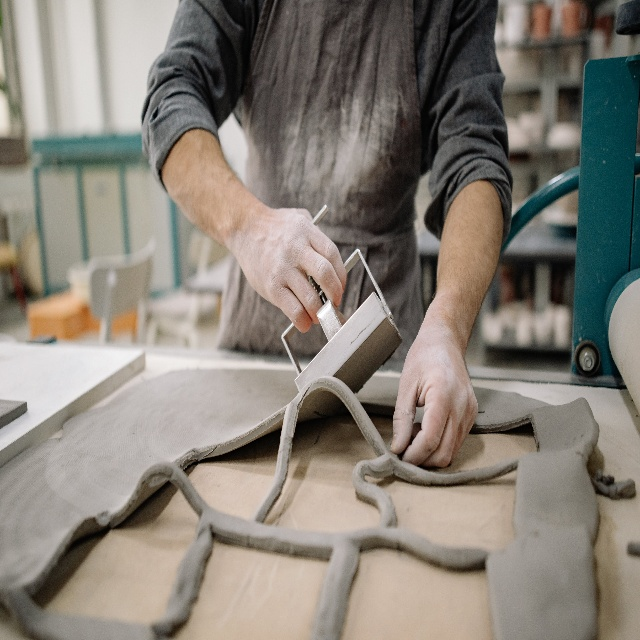Sin_guantes: (391, 309, 479, 470), (240, 202, 348, 332)
